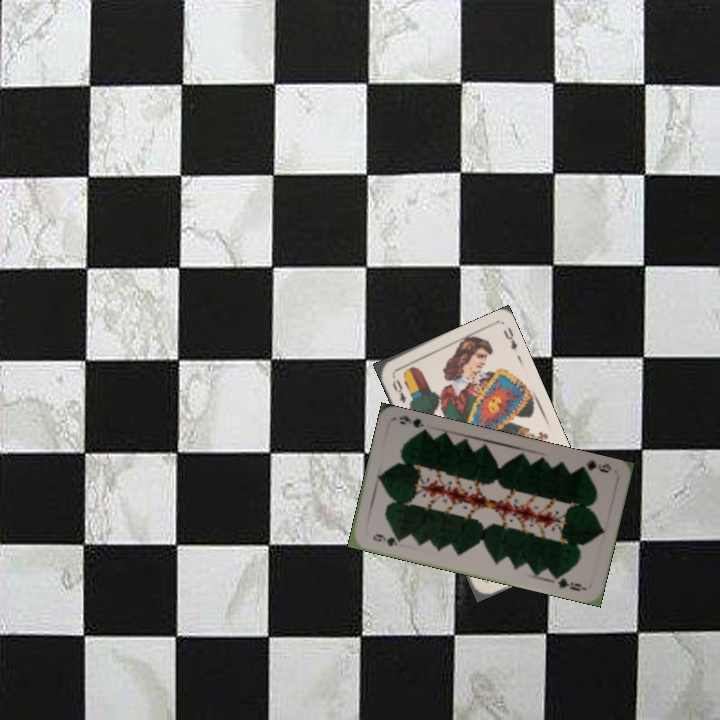EO: (388, 375, 409, 406)
G9: (574, 456, 614, 476), (368, 530, 405, 549)
